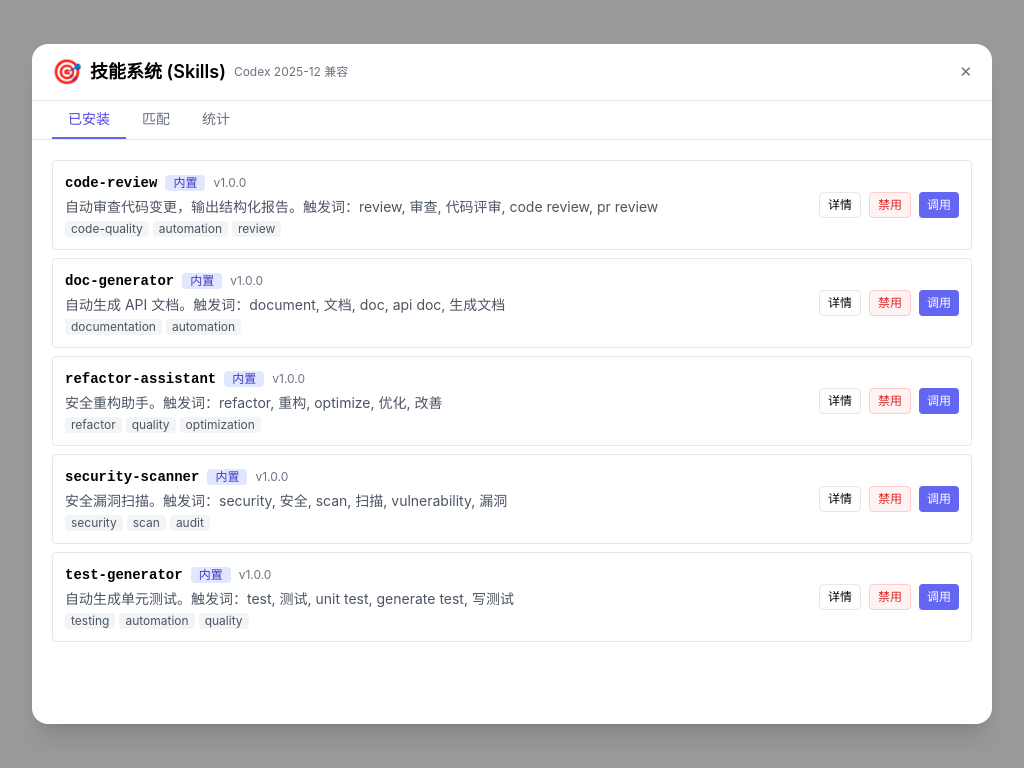
Test case: SkillsPanel › 切换到统计 Tab
The image size is (1024, 768).
Click the button with test id "skills-tab-stats" at (216, 120), box [186,101,246,139]
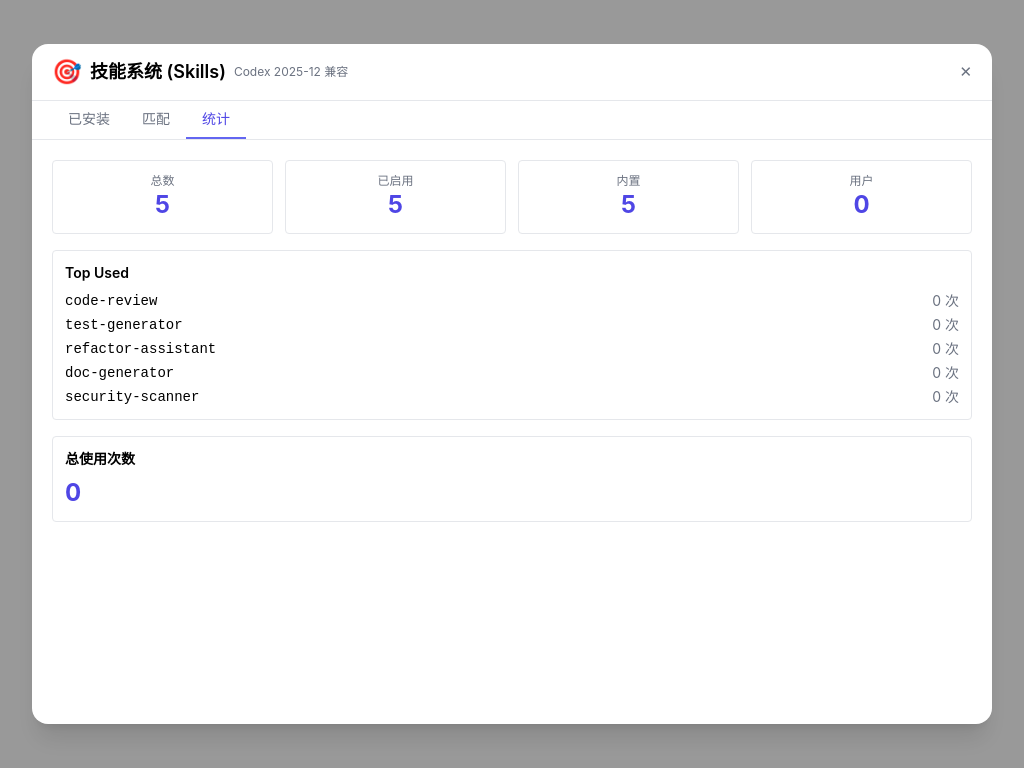
Check: the element with test id "skills-stats" is shown, box [52,160,972,522]
